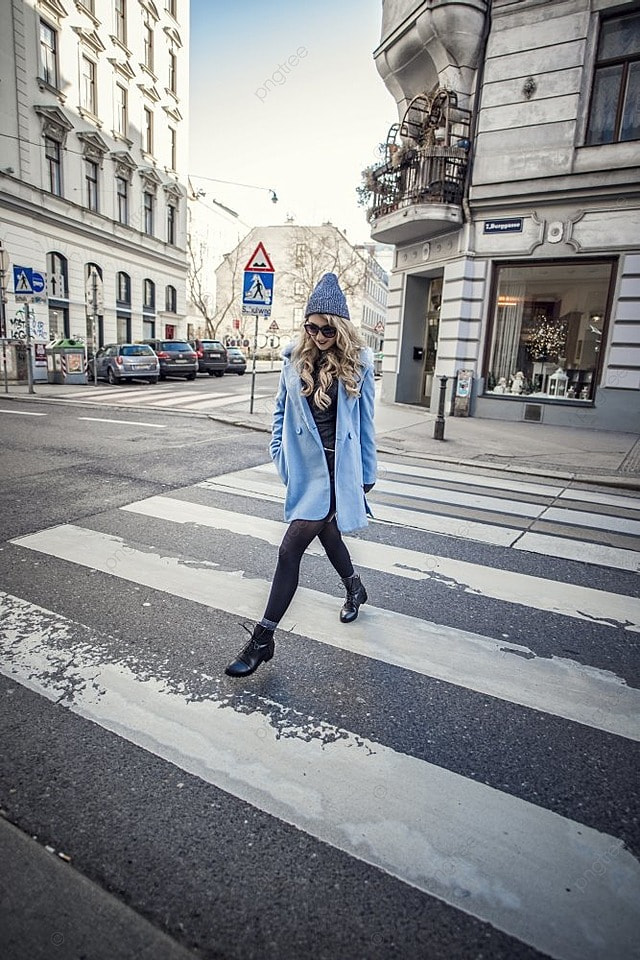person: (212, 272, 390, 696)
